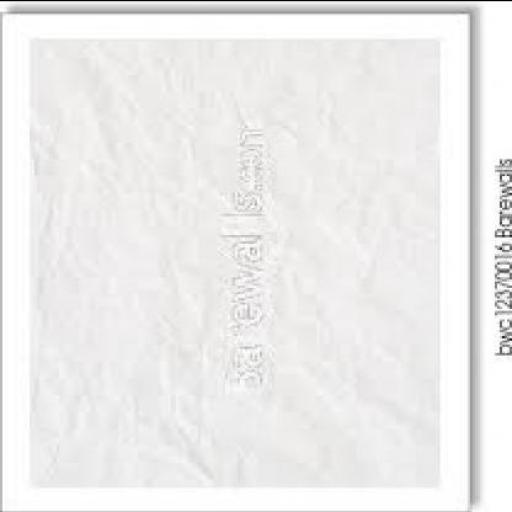paper: (25, 38, 443, 489)
